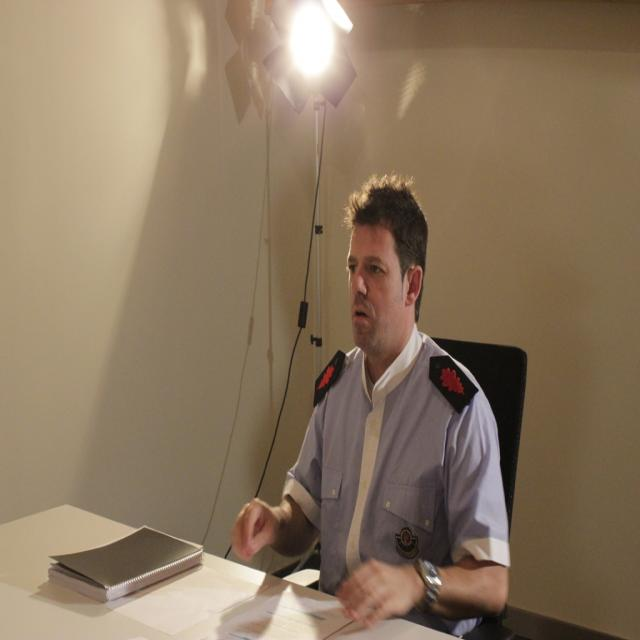chair: (431, 338, 529, 532)
desk: (0, 492, 332, 633)
laptop: (45, 523, 206, 603)
person: (227, 172, 515, 630)
